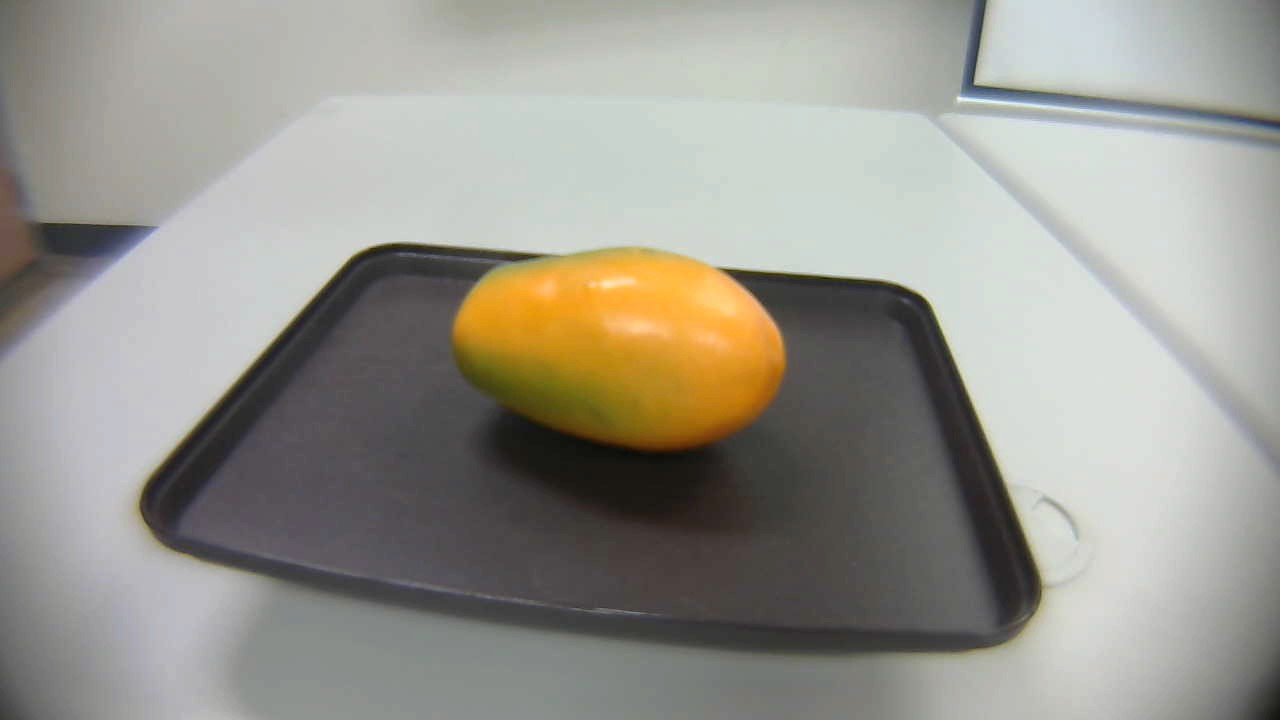papya: (447, 238, 797, 464)
